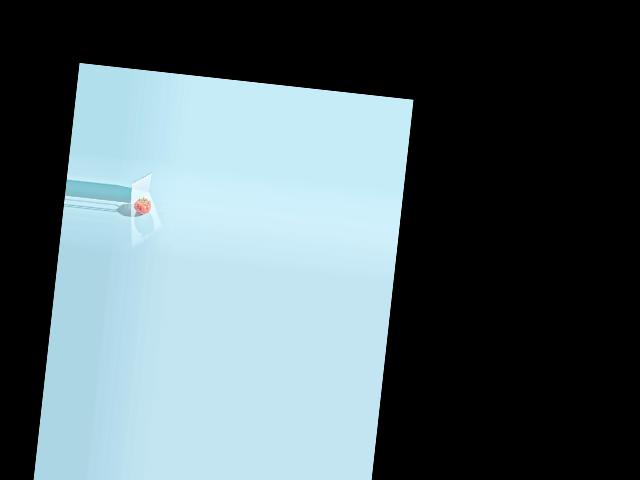tomato: (132, 197, 151, 215)
